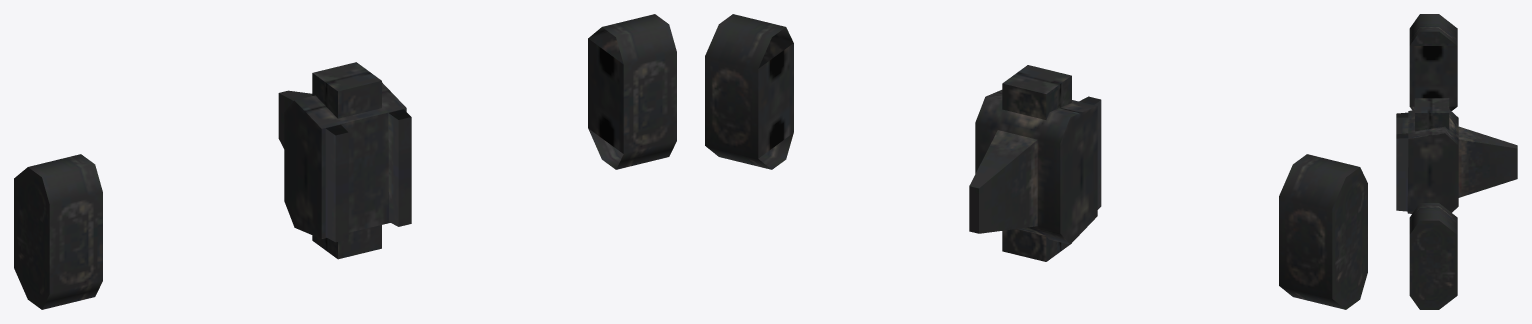
3 views of the same model, side by side, from view 1: azimuth 30°, elevation 25°; view 2: azimuth 150°, elevation 25°; view 3: azimuth 270°, elevation 25° (orthographic). The views are drawn at different scales.
Visible parts, largest first — view 1: set_0_group_0; view 2: set_0_group_0; view 3: set_0_group_0.
Boxes of the visible parts, x1=… form: set_0_group_0: x1=14, y1=14, x2=676, y2=309; set_0_group_0: x1=705, y1=14, x2=1367, y2=309; set_0_group_0: x1=1396, y1=14, x2=1517, y2=309.
Bounding box in the file's own units: 0.59 × 0.1509 × 0.1462.
Materials: 1 (1 with a texture image).
